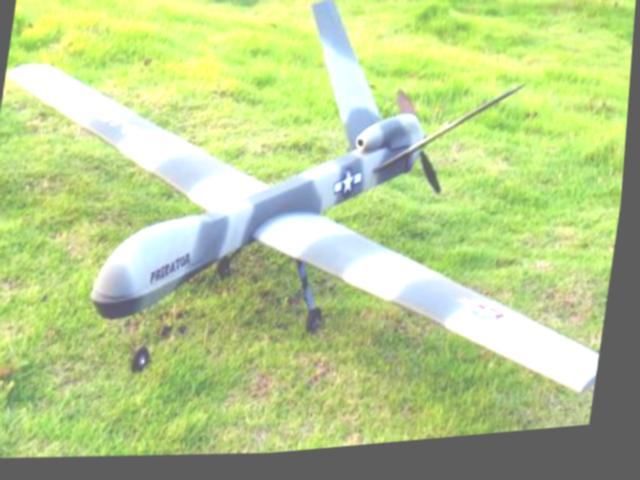uav: (0, 0, 640, 449)
